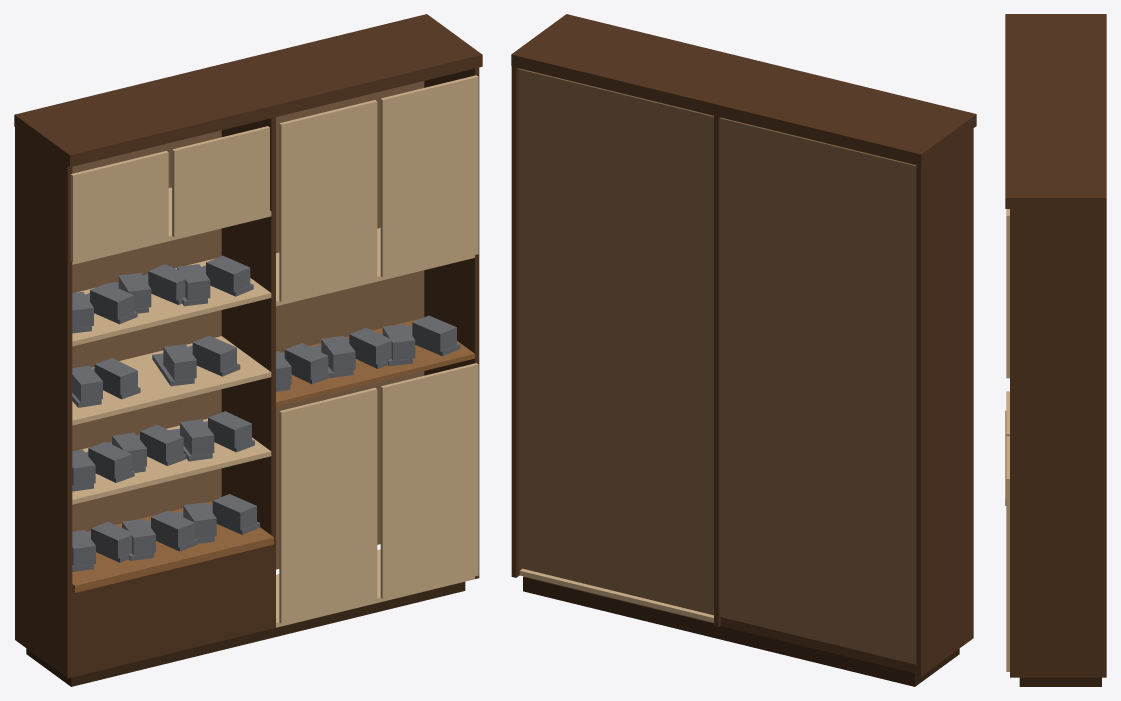
The model's file is shoecabinet-lite.glb.
3 views of the same model, side by side, from view 1: azimuth 30°, elevation 25°; view 2: azimuth 150°, elevation 25°; view 3: azimuth 270°, elevation 25° (orthographic). The views are drawn at different scales.
Parts seen in each view (by area): view 1: material-4-door, material-0-body, material-7-stash, material-3-interior, material-2-shelf, material-6-top, material-1-base; view 2: material-3-interior, material-0-body, material-1-base, material-2-shelf; view 3: material-0-body, material-4-door, material-1-base, material-6-top.
Part boxes in pixels (x1,y1,x2,y2): material-4-door: (70,75,478,623); material-0-body: (14,14,482,678); material-7-stash: (72,255,460,571); material-3-interior: (72,81,424,569); material-2-shelf: (72,187,474,627); material-6-top: (72,319,474,592); material-1-base: (26,581,465,686); material-3-interior: (518,68,916,664); material-0-body: (511,14,976,676); material-1-base: (523,576,959,686); material-2-shelf: (519,568,713,622); material-0-body: (1005,14,1106,677); material-4-door: (1006,209,1009,671); material-1-base: (1019,677,1101,686); material-6-top: (1005,410,1006,505).
Bounding box in the file's own units: 1.8 × 2.25 × 0.42.
